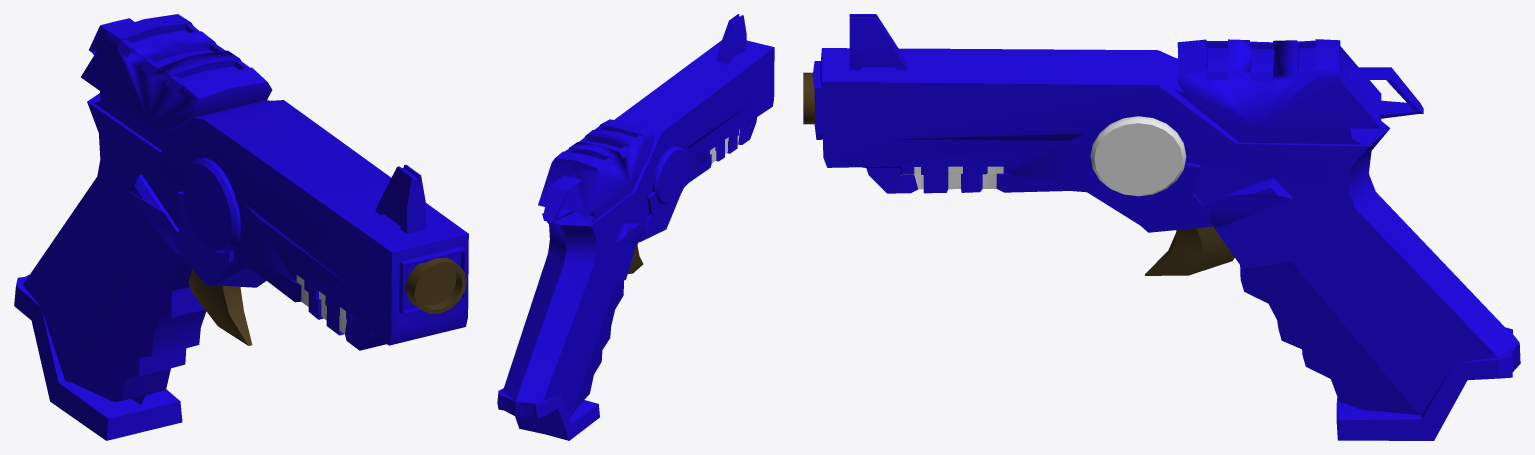
The model's file is pistolalaser.fbx.
3 renders of one model, left to right at view 1: azimuth 30°, elevation 25°; view 2: azimuth 150°, elevation 25°; view 3: azimuth 270°, elevation 25°, orthographic. The views are drawn at different scales.
Visible parts, largest first — view 1: Circle; view 2: Circle; view 3: Circle.
Boxes of the visible parts, x1,y1,x2,y2 form: Circle: (14, 14, 468, 440); Circle: (497, 14, 774, 440); Circle: (803, 14, 1520, 440).
Size of the model in its own units: 0.0664 by 0.2929 by 0.4661.
